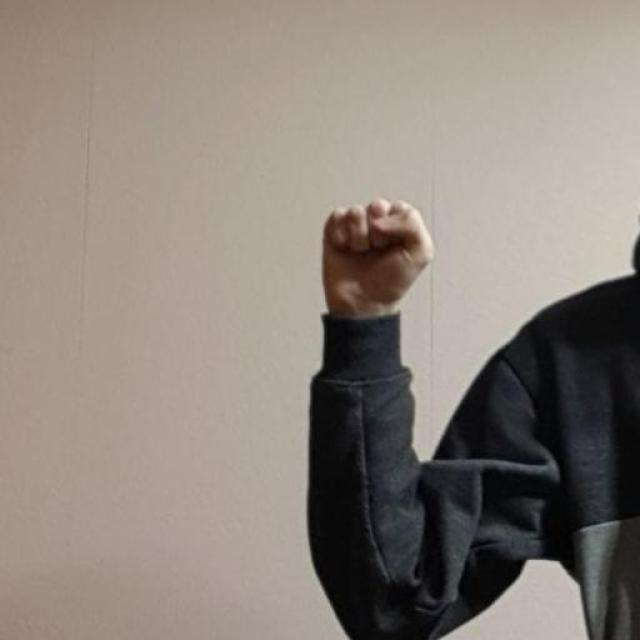hand: (322, 195, 436, 317)
